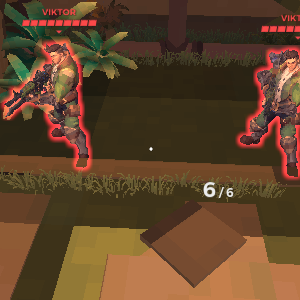model: (5, 39, 95, 180), (243, 45, 300, 180)
